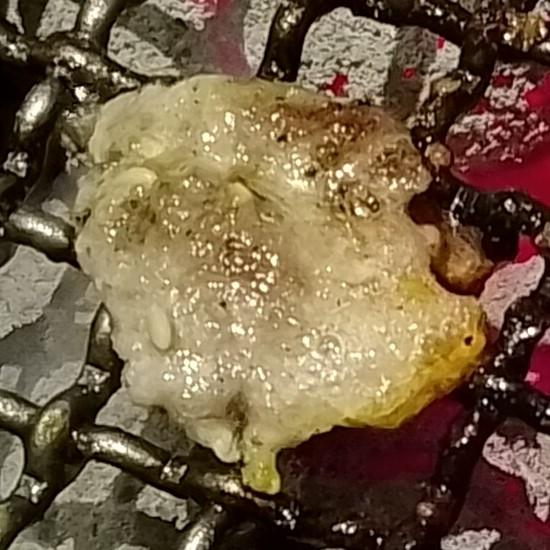Overcooked: (70, 75, 494, 496)
